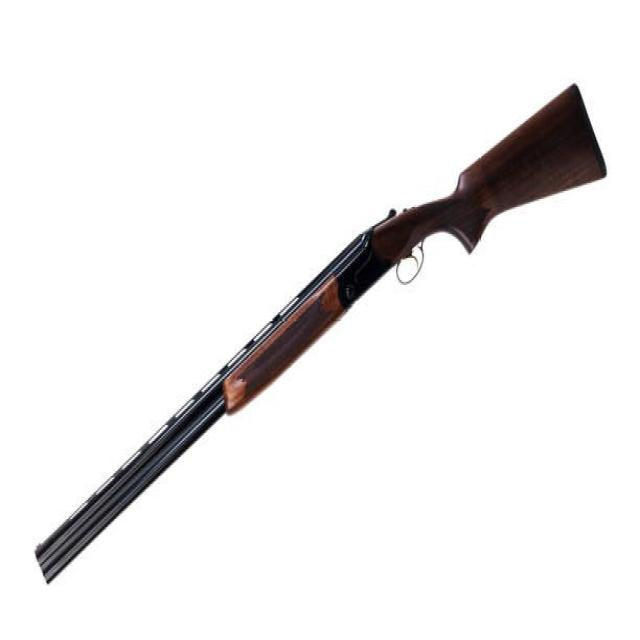rifle: (29, 71, 612, 591)
